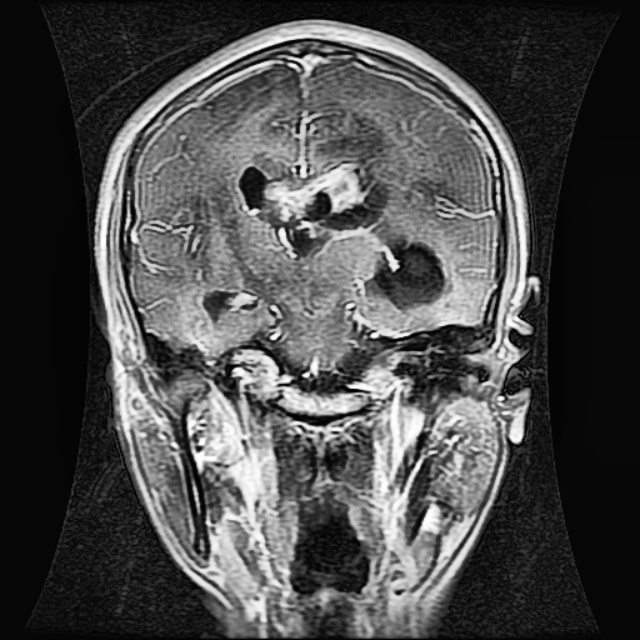Meningioma: (233, 147, 393, 259)
